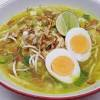soto: (1, 5, 100, 97)
